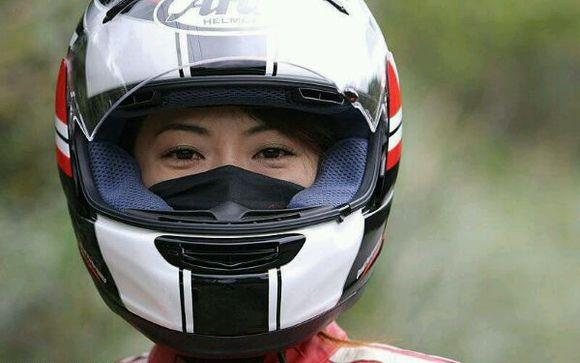OK: (141, 89, 327, 302)
